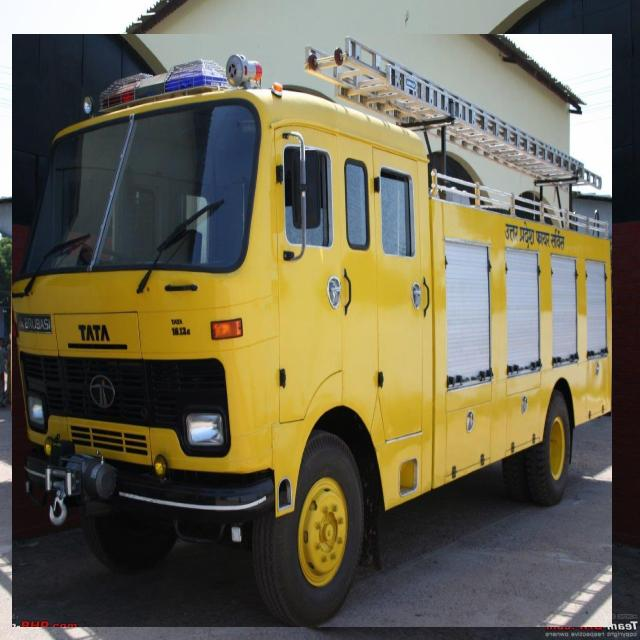emergency: (12, 34, 611, 627)
